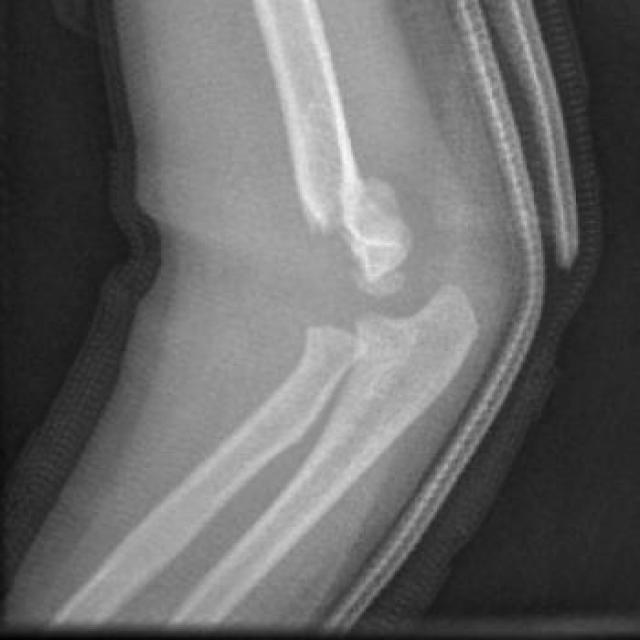Fracture: (296, 203, 434, 368)
